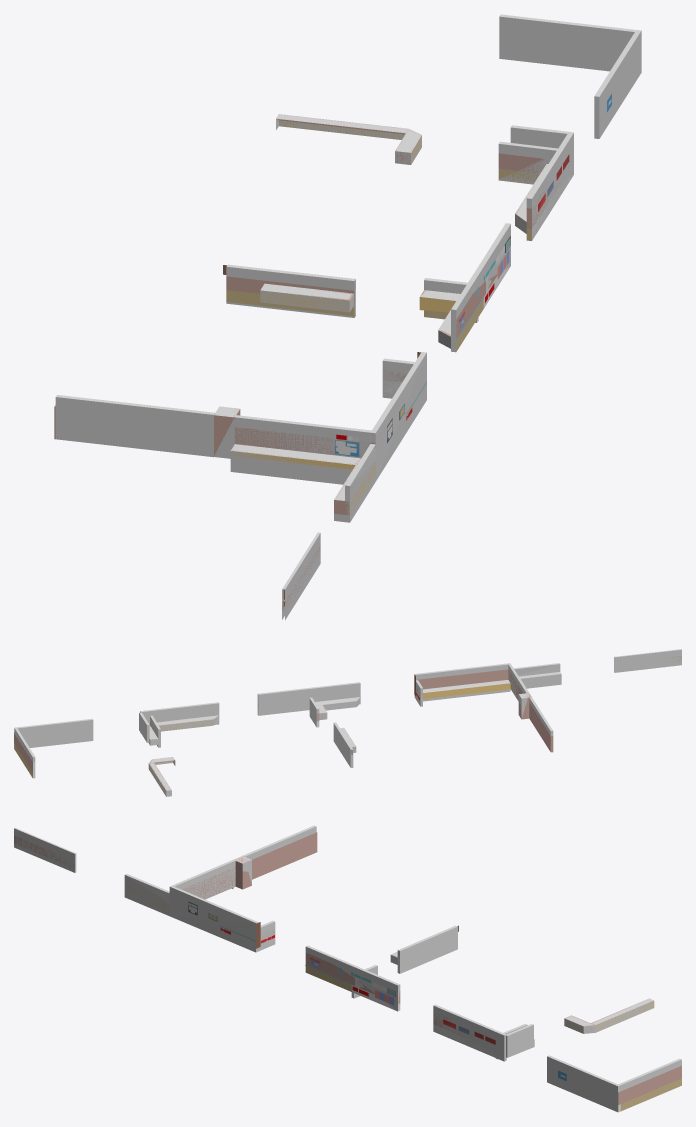
File: s_brick_walls_slums_car_shops.dae
3 views of the same model, one above another, from view 1: azimuth 30°, elevation 25°; view 2: azimuth 150°, elevation 25°; view 3: azimuth 270°, elevation 25° (orthographic). The views are drawn at different scales.
Visible parts, largest first — view 1: Colmesh_s_brick_walls_slums_car_shops-1, s_brick_walls_slums_car_shops_L2500; view 2: Colmesh_s_brick_walls_slums_car_shops-1, s_brick_walls_slums_car_shops_L2500; view 3: Colmesh_s_brick_walls_slums_car_shops-1, s_brick_walls_slums_car_shops_L2500.
Boxes of the visible parts, x1=… form: Colmesh_s_brick_walls_slums_car_shops-1: x1=55, y1=14, x2=641, y2=619; s_brick_walls_slums_car_shops_L2500: x1=54, y1=94, x2=611, y2=611; Colmesh_s_brick_walls_slums_car_shops-1: x1=14, y1=649, x2=681, y2=796; s_brick_walls_slums_car_shops_L2500: x1=14, y1=656, x2=681, y2=796; Colmesh_s_brick_walls_slums_car_shops-1: x1=14, y1=825, x2=681, y2=1112; s_brick_walls_slums_car_shops_L2500: x1=14, y1=832, x2=681, y2=1112.
Bounding box in the file's own units: 90.47 × 99.97 × 6.12.
